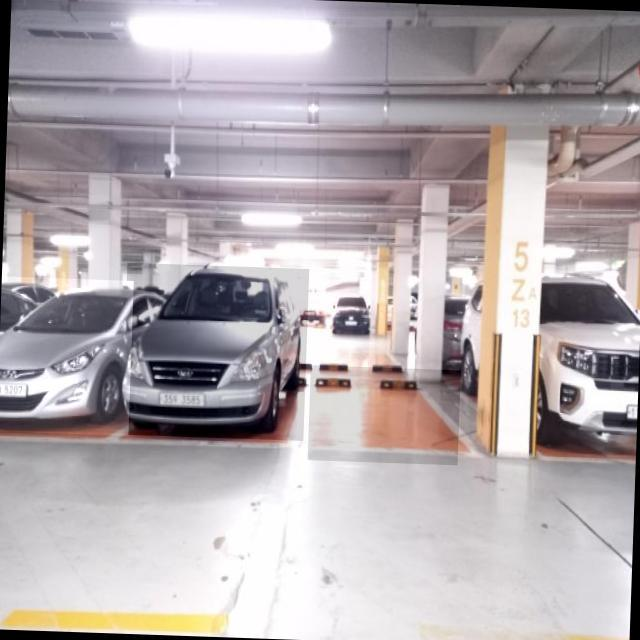empty: (307, 365, 460, 465)
occupied: (122, 262, 310, 440), (0, 275, 133, 435)
